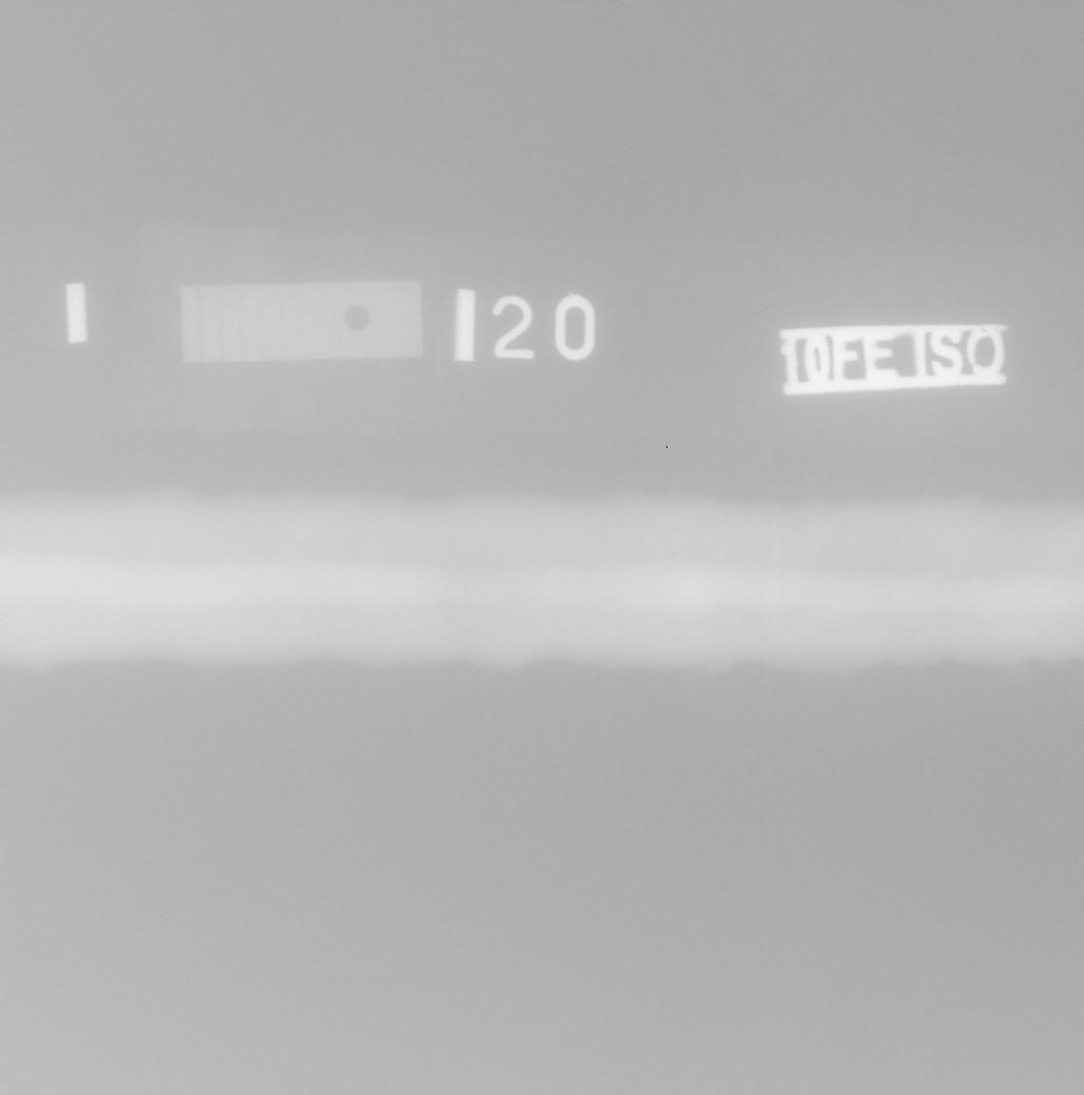Reference Standard 1: (180, 280, 423, 364)
